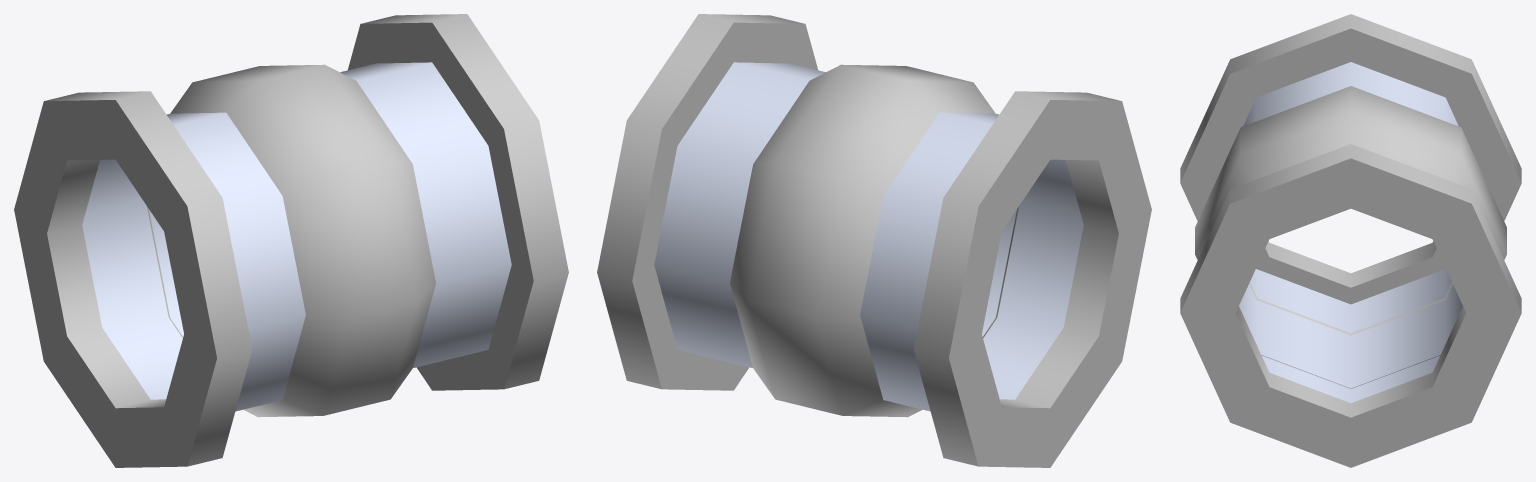
The model's file is pipe-glass-large-bump.obj.
The picture shows the model from 3 angles, left to right: view 1: azimuth 30°, elevation 25°; view 2: azimuth 150°, elevation 25°; view 3: azimuth 270°, elevation 25°; orthographic projection. The views are drawn at different scales.
Parts seen in each view (by area): view 1: pipe-glass-large-bump; view 2: pipe-glass-large-bump; view 3: pipe-glass-large-bump.
Boxes of the visible parts, x1,y1,x2,y2 form: pipe-glass-large-bump: [14, 14, 568, 467]; pipe-glass-large-bump: [597, 14, 1151, 467]; pipe-glass-large-bump: [1180, 14, 1521, 467].
Size of the model in its own units: 1 by 1 by 1.
